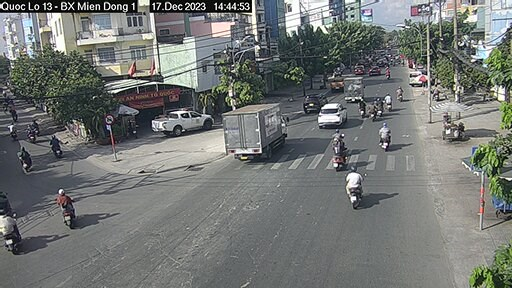car: (153, 106, 214, 134), (319, 103, 344, 130), (303, 93, 325, 109)
motorbike: (53, 187, 80, 225), (345, 168, 361, 199), (329, 128, 346, 154), (377, 121, 392, 150)
truck: (218, 105, 298, 161), (345, 75, 369, 103)
